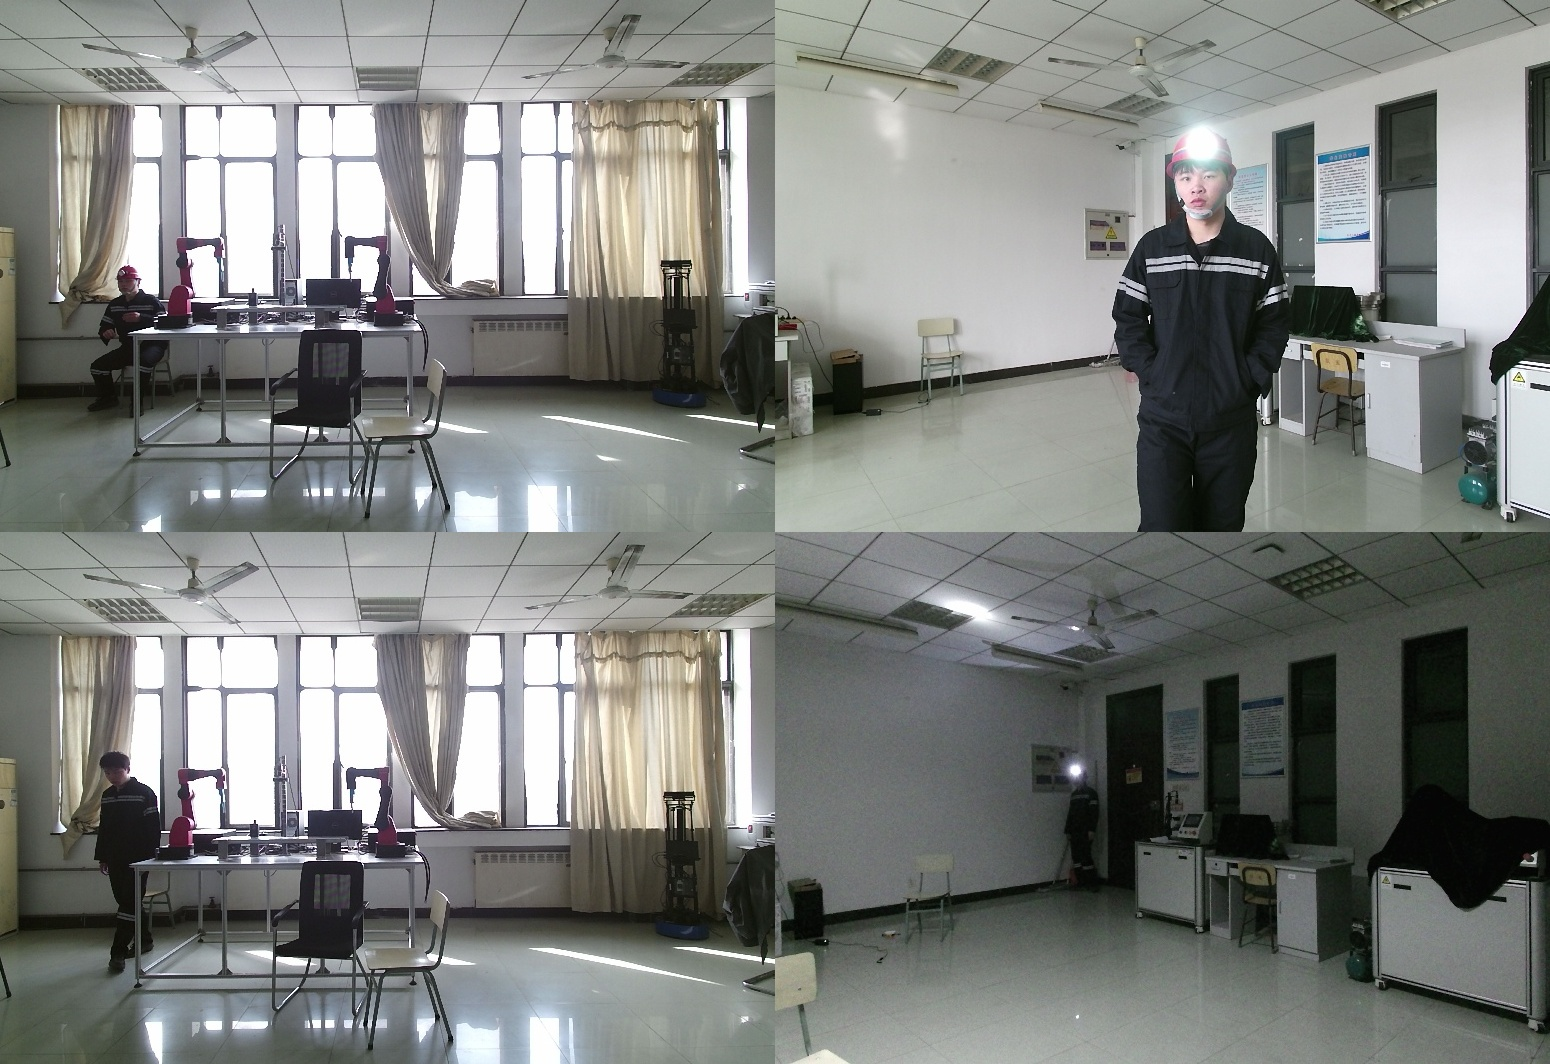person: (1113, 126, 1313, 532), (90, 752, 166, 969), (82, 265, 179, 413), (1064, 766, 1099, 893)
